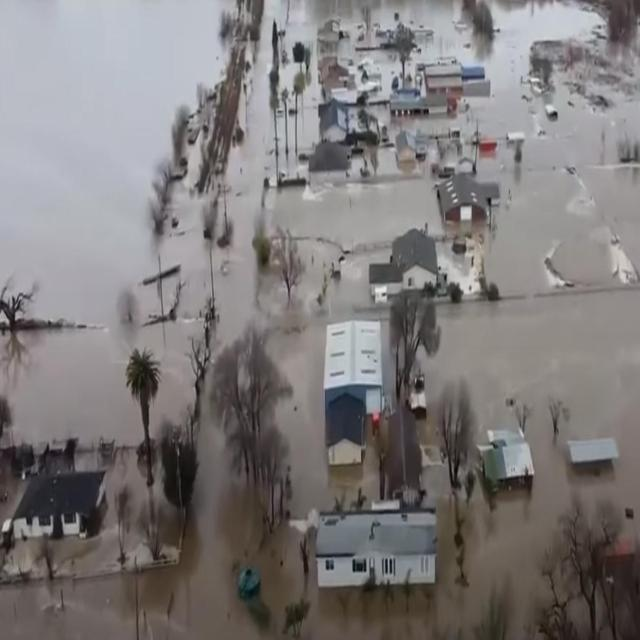flood: (271, 0, 640, 295), (0, 0, 235, 444), (418, 288, 640, 499), (302, 470, 573, 640), (137, 401, 301, 640), (213, 1, 286, 348), (266, 178, 441, 301), (272, 316, 327, 515), (0, 572, 136, 640), (277, 63, 319, 167), (567, 463, 640, 512), (328, 449, 379, 501), (328, 280, 389, 322)
house: (315, 500, 442, 598), (10, 468, 109, 550), (322, 317, 384, 417), (368, 228, 437, 304), (479, 416, 534, 491), (438, 172, 499, 226), (326, 392, 366, 470), (420, 59, 470, 111), (318, 99, 348, 152), (389, 86, 429, 120)
